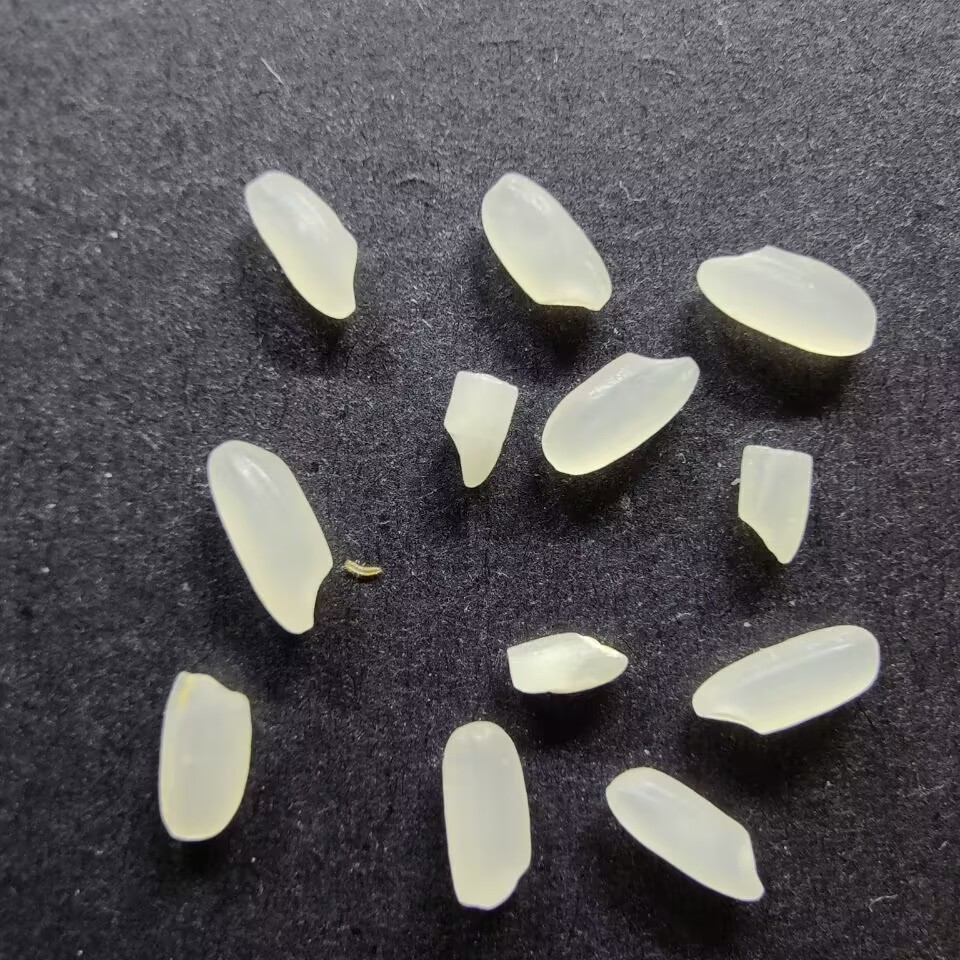broken: (738, 441, 813, 567), (444, 367, 520, 489), (505, 631, 629, 695)
others: (340, 554, 384, 579)
rice: (207, 437, 335, 638), (603, 765, 766, 904), (691, 622, 882, 738), (695, 244, 879, 357), (539, 350, 700, 476), (479, 171, 612, 311), (439, 719, 533, 909), (243, 170, 362, 320), (155, 669, 254, 842)
